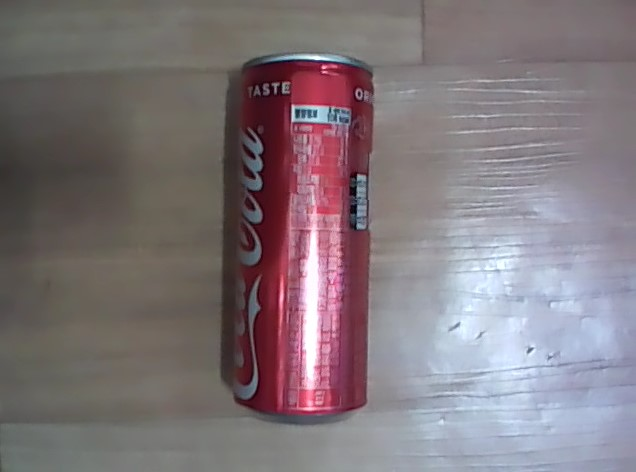Can: (215, 43, 380, 432)
